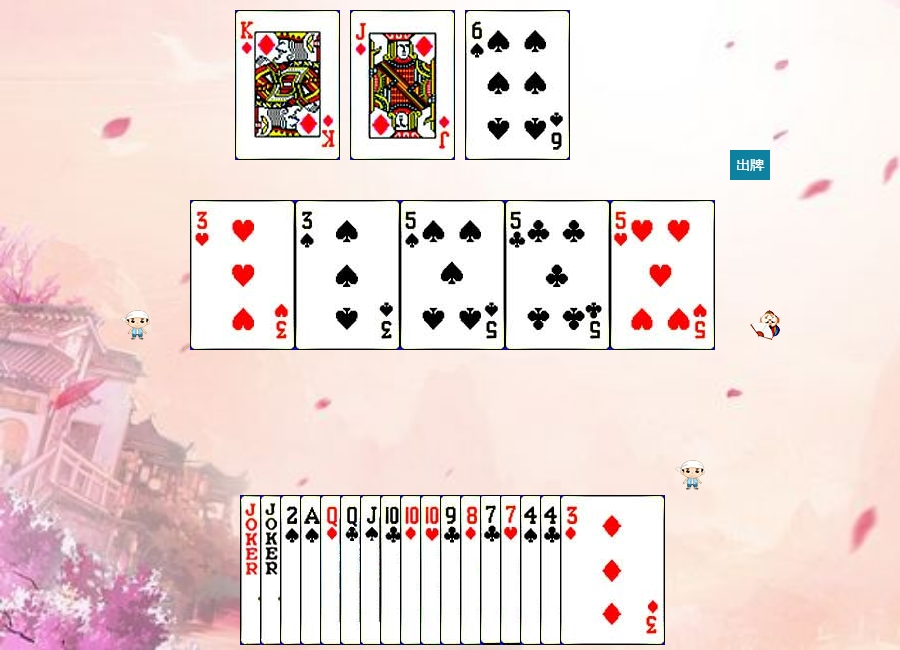10~1: (400, 495, 505, 645)
10~2: (380, 495, 485, 645)
10~3: (420, 495, 525, 645)
11~1: (350, 10, 455, 160)
11~4: (360, 495, 465, 645)
12~1: (320, 495, 425, 645)
12~2: (340, 495, 445, 645)
13~1: (235, 10, 340, 160)
14~4: (300, 495, 405, 645)
15~4: (280, 495, 385, 645)
17~3: (260, 495, 365, 645)
18~4: (240, 495, 345, 645)
3~1: (560, 495, 665, 645)
3~3: (190, 200, 295, 350)
3~4: (295, 200, 400, 350)
4~2: (540, 495, 645, 645)
4~4: (520, 495, 625, 645)
5~2: (505, 200, 610, 350)
5~3: (610, 200, 715, 350)
5~4: (400, 200, 505, 350)
6~4: (465, 10, 570, 160)
7~2: (480, 495, 585, 645)
7~3: (500, 495, 605, 645)
8~1: (460, 495, 565, 645)
9~2: (440, 495, 545, 645)
